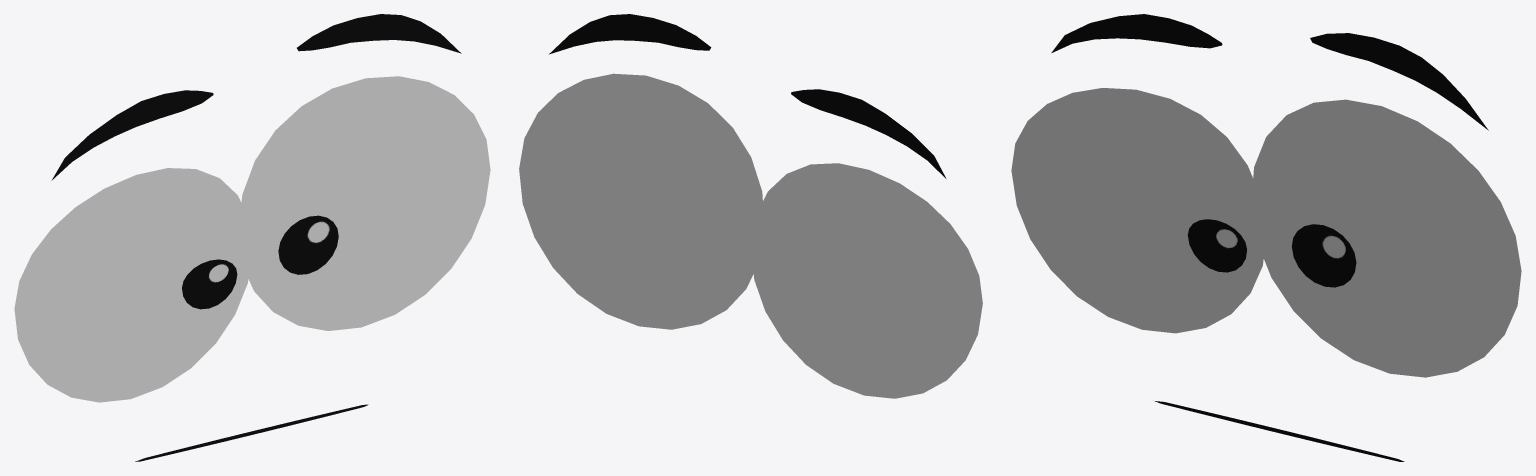
Rendered from NL_hideidle2.FBX.
3 views of the same model, side by side, from view 1: azimuth 30°, elevation 25°; view 2: azimuth 150°, elevation 25°; view 3: azimuth 330°, elevation 25° (orthographic). The views are drawn at different scales.
Visible parts, largest first — view 1: EYES, MOUTH; view 2: EYES; view 3: EYES, MOUTH.
Part boxes in pixels (left/top/right/bottom): EYES: left=14, top=14, right=490, bottom=402; MOUTH: left=135, top=404, right=368, bottom=461; EYES: left=519, top=14, right=982, bottom=398; EYES: left=1011, top=14, right=1521, bottom=377; MOUTH: left=1155, top=401, right=1404, bottom=461.
Size of the model in its own units: 49.96 by 40.04 by 1.66.
